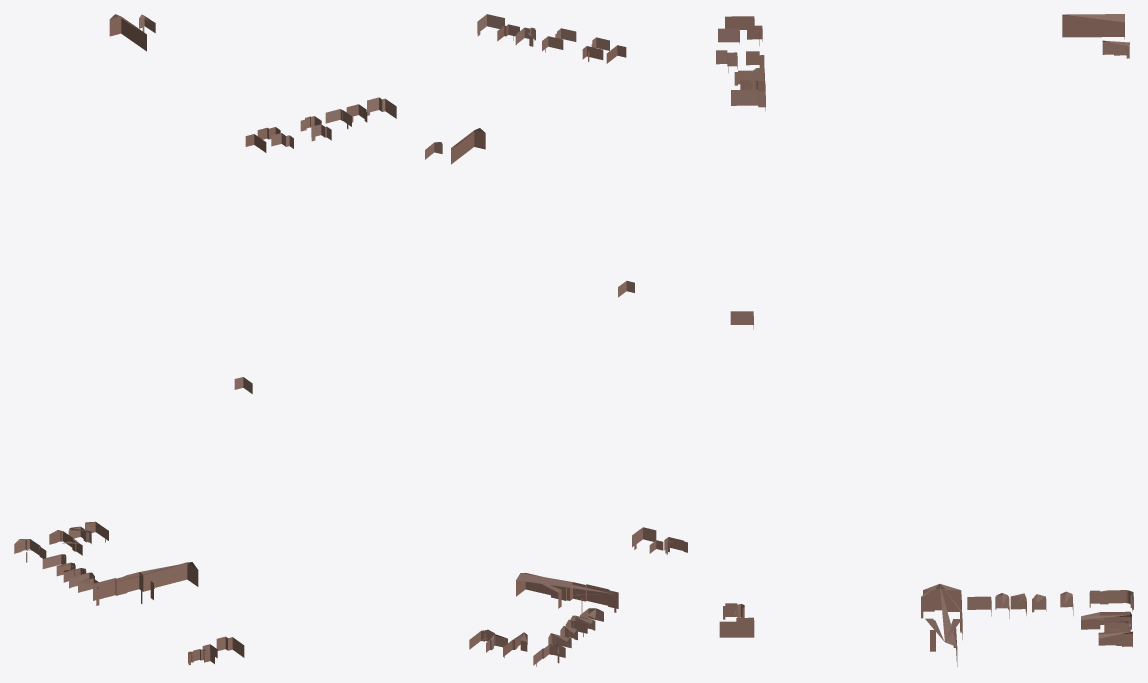
The model's file is c_1638_17827_buildings_residential.glb.
3 views of the same model, side by side, from view 1: azimuth 30°, elevation 25°; view 2: azimuth 150°, elevation 25°; view 3: azimuth 270°, elevation 25° (orthographic). The views are drawn at different scales.
Visible parts, largest first — view 1: geometry_0; view 2: geometry_0; view 3: geometry_0.
Boxes of the visible parts, left/top/right/bottom form: geometry_0: left=14, top=14, right=396, bottom=665; geometry_0: left=425, top=14, right=687, bottom=666; geometry_0: left=716, top=14, right=1133, bottom=666.
Bounding box in the file's own units: 205 × 451 × 262.
